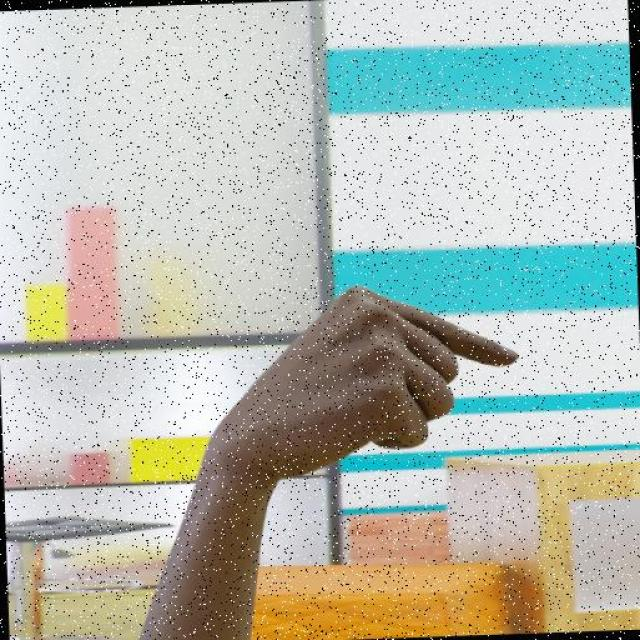G: (188, 276, 527, 488)
